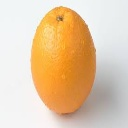orange: (30, 6, 98, 113)
